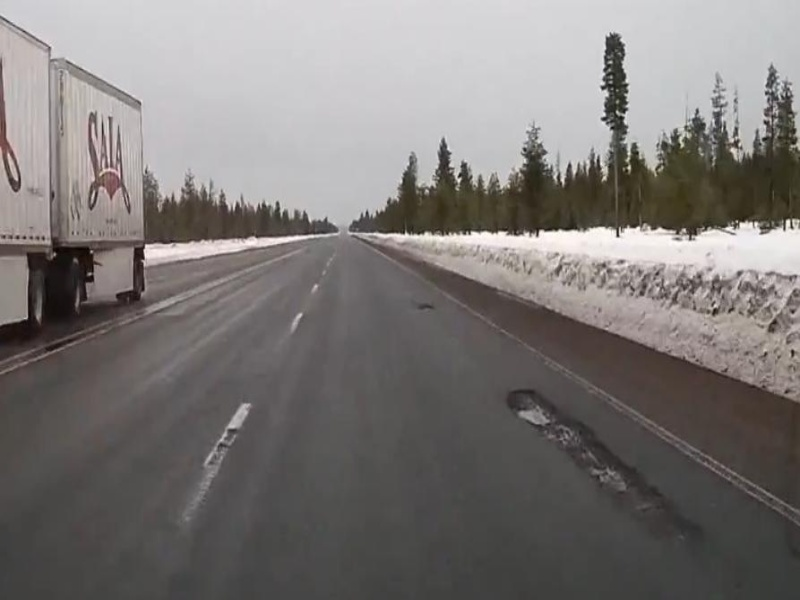pothole: (505, 384, 633, 501)
